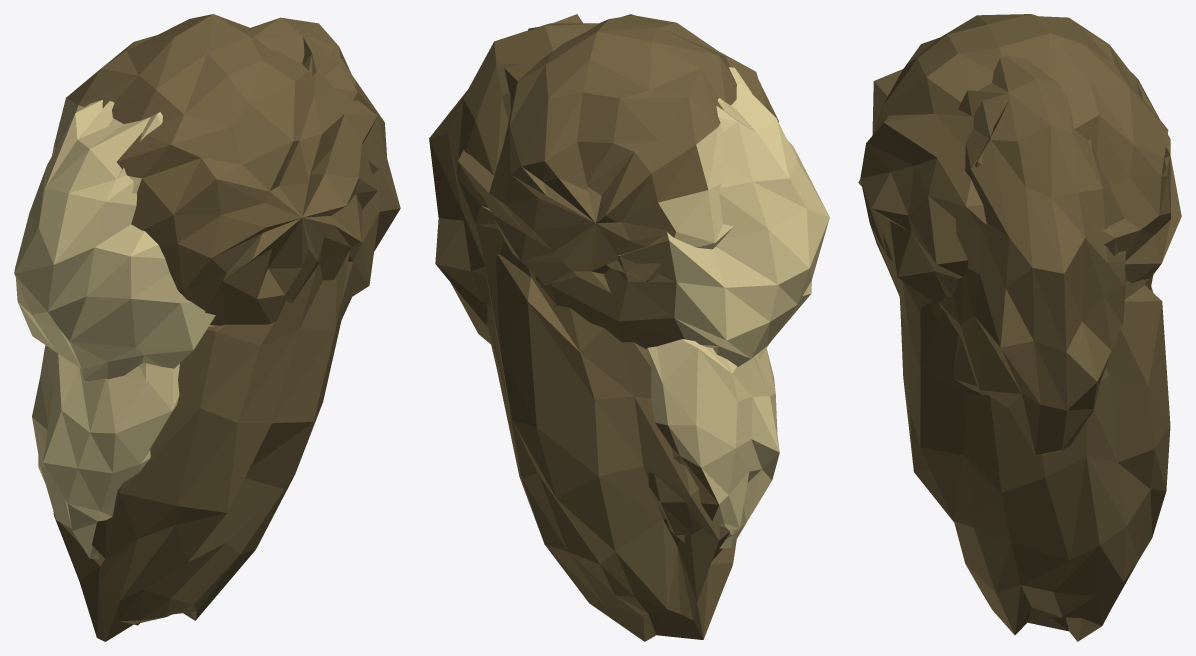
Rendered from avatarBody.obj.
3 views of the same model, side by side, from view 1: azimuth 30°, elevation 25°; view 2: azimuth 150°, elevation 25°; view 3: azimuth 270°, elevation 25° (orthographic). The views are drawn at different scales.
Parts seen in each view (by area): view 1: Object.1; view 2: Object.1; view 3: Object.1.
Part boxes in pixels (left/top/right/bottom): Object.1: left=14, top=14, right=400, bottom=641; Object.1: left=429, top=14, right=829, bottom=641; Object.1: left=858, top=14, right=1181, bottom=641.
Size of the model in its own units: 97.36 by 150 by 68.53.
